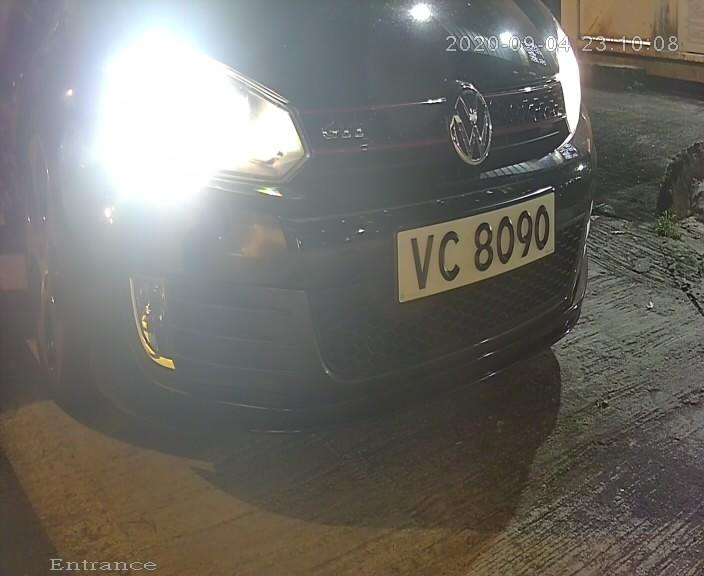License Plate: (386, 174, 563, 316)
